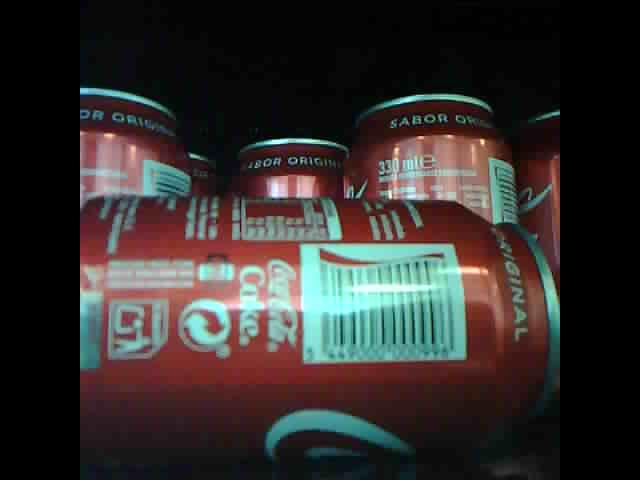coca cola: (80, 192, 558, 464), (349, 94, 518, 229), (81, 83, 190, 207), (230, 138, 348, 198), (515, 105, 560, 262)
